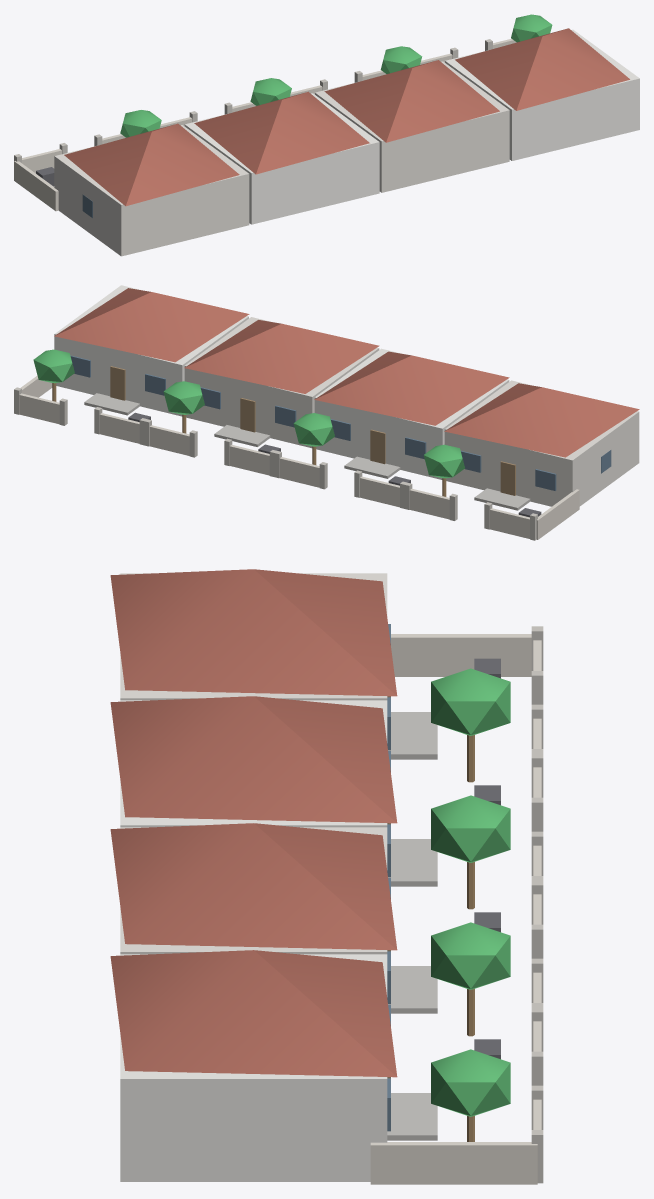
The model's file is estate_bungalow_1.glb.
The picture shows the model from 3 angles, top to bottom: view 1: azimuth 30°, elevation 25°; view 2: azimuth 150°, elevation 25°; view 3: azimuth 270°, elevation 25°; orthographic projection. The views are drawn at different scales.
Visible parts, largest first — view 1: BLD_estate_bungalow_1; view 2: BLD_estate_bungalow_1; view 3: BLD_estate_bungalow_1.
Boxes of the visible parts, x1,y1,x2,y2 form: BLD_estate_bungalow_1: (14,14,639,256); BLD_estate_bungalow_1: (14,285,639,540); BLD_estate_bungalow_1: (110,569,543,1184).
Bounding box in the file's own units: 36.25 × 5.6 × 12.97.
